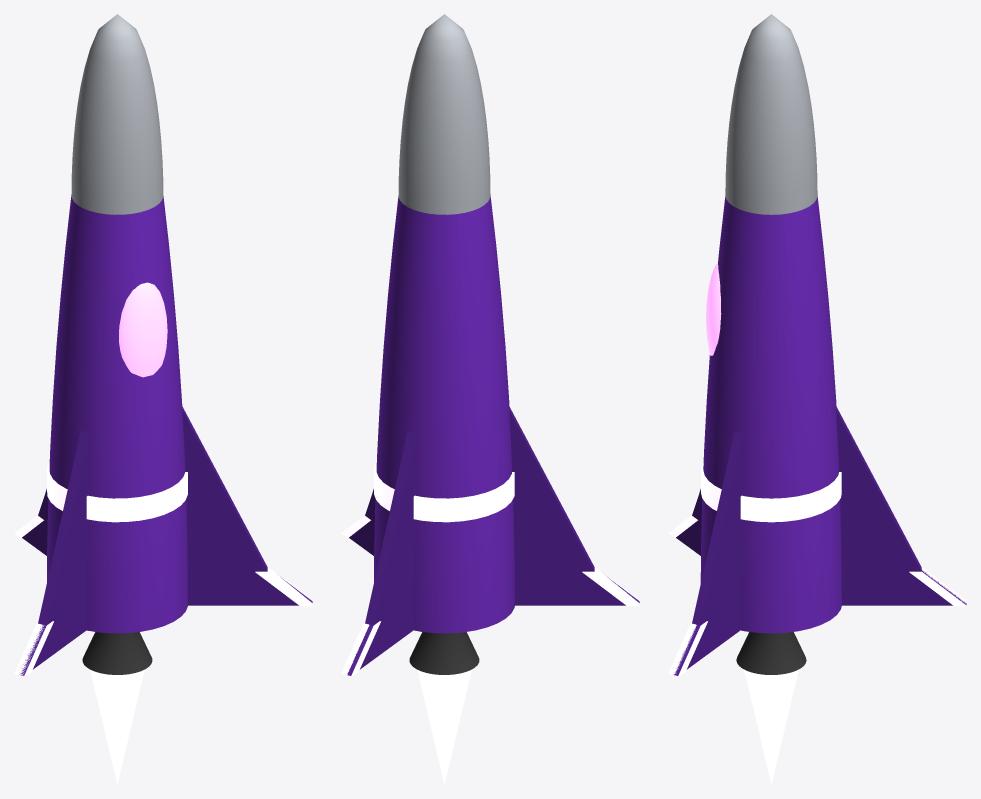
Rendered from Rocket_25_VioletViper.fbx.
The picture shows the model from 3 angles, left to right: view 1: azimuth 30°, elevation 25°; view 2: azimuth 150°, elevation 25°; view 3: azimuth 270°, elevation 25°; orthographic projection.
Parts seen in each view (by area): view 1: R25_Body, R25_Nose, R25_Fin_3, R25_Fin_2, R25_Cockpit, R25_Flame_1, R25_Band_1, R25_Nozzle_1, R25_FinGlow_2, R25_Fin_1, R25_FinGlow_3; view 2: R25_Body, R25_Nose, R25_Fin_2, R25_Fin_1, R25_Flame_1, R25_Band_1, R25_Nozzle_1, R25_Fin_3, R25_FinGlow_2, R25_FinGlow_1; view 3: R25_Body, R25_Nose, R25_Fin_1, R25_Fin_3, R25_Flame_1, R25_Band_1, R25_Nozzle_1, R25_Cockpit, R25_FinGlow_3, R25_FinGlow_1, R25_Fin_2.
Boxes of the visible parts, x1,y1,x2,y2 form: R25_Body: (47, 194, 187, 633); R25_Nose: (71, 14, 163, 214); R25_Fin_3: (182, 406, 312, 605); R25_Fin_2: (19, 431, 89, 675); R25_Cockpit: (119, 282, 167, 377); R25_Flame_1: (90, 669, 144, 784); R25_Band_1: (47, 462, 187, 522); R25_Nozzle_1: (82, 632, 152, 674); R25_FinGlow_2: (14, 621, 53, 676); R25_Fin_1: (22, 489, 48, 555); R25_FinGlow_3: (255, 567, 312, 606); R25_Body: (374, 194, 514, 633); R25_Nose: (398, 14, 490, 214); R25_Fin_2: (509, 407, 639, 605); R25_Fin_1: (347, 430, 416, 675); R25_Flame_1: (417, 669, 471, 784); R25_Band_1: (374, 462, 514, 522); R25_Nozzle_1: (409, 632, 479, 674); R25_Fin_3: (349, 489, 375, 555); R25_FinGlow_2: (582, 567, 639, 606); R25_FinGlow_1: (341, 621, 380, 676); R25_Body: (700, 196, 841, 633); R25_Nose: (725, 14, 817, 214); R25_Fin_1: (836, 407, 966, 605); R25_Fin_3: (673, 431, 743, 675); R25_Flame_1: (744, 669, 798, 784); R25_Band_1: (701, 462, 841, 522); R25_Nozzle_1: (736, 632, 806, 674); R25_Cockpit: (706, 263, 721, 355); R25_FinGlow_3: (668, 621, 707, 676); R25_FinGlow_1: (909, 567, 966, 606); R25_Fin_2: (676, 489, 702, 555).
Size of the model in its own units: 4.13 by 10.2 by 3.58.
